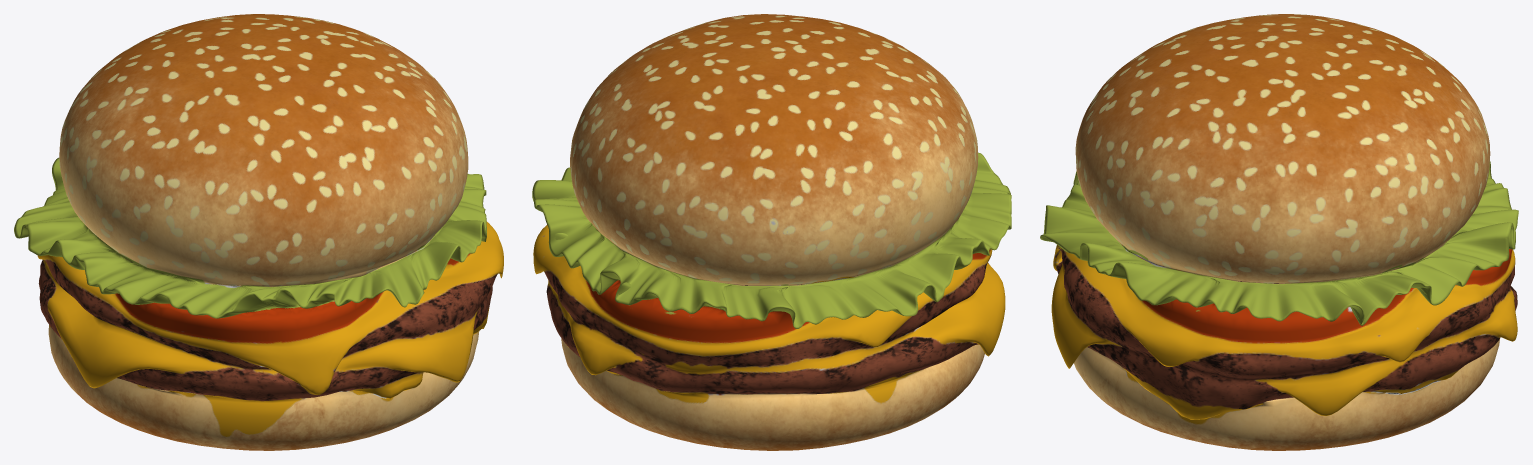
The model's file is burger-centered.obj.
The picture shows the model from 3 angles, left to right: view 1: azimuth 30°, elevation 25°; view 2: azimuth 150°, elevation 25°; view 3: azimuth 270°, elevation 25°; orthographic projection.
Visible parts, largest first — view 1: Burger; view 2: Burger; view 3: Burger.
Part boxes in pixels (x1,y1,x2,y2): Burger: (14,14,503,450); Burger: (532,14,1011,450); Burger: (1040,14,1518,450).
Bounding box in the file's own units: 0.5358 × 0.425 × 0.5442.
Materials: 1 (1 with a texture image).
